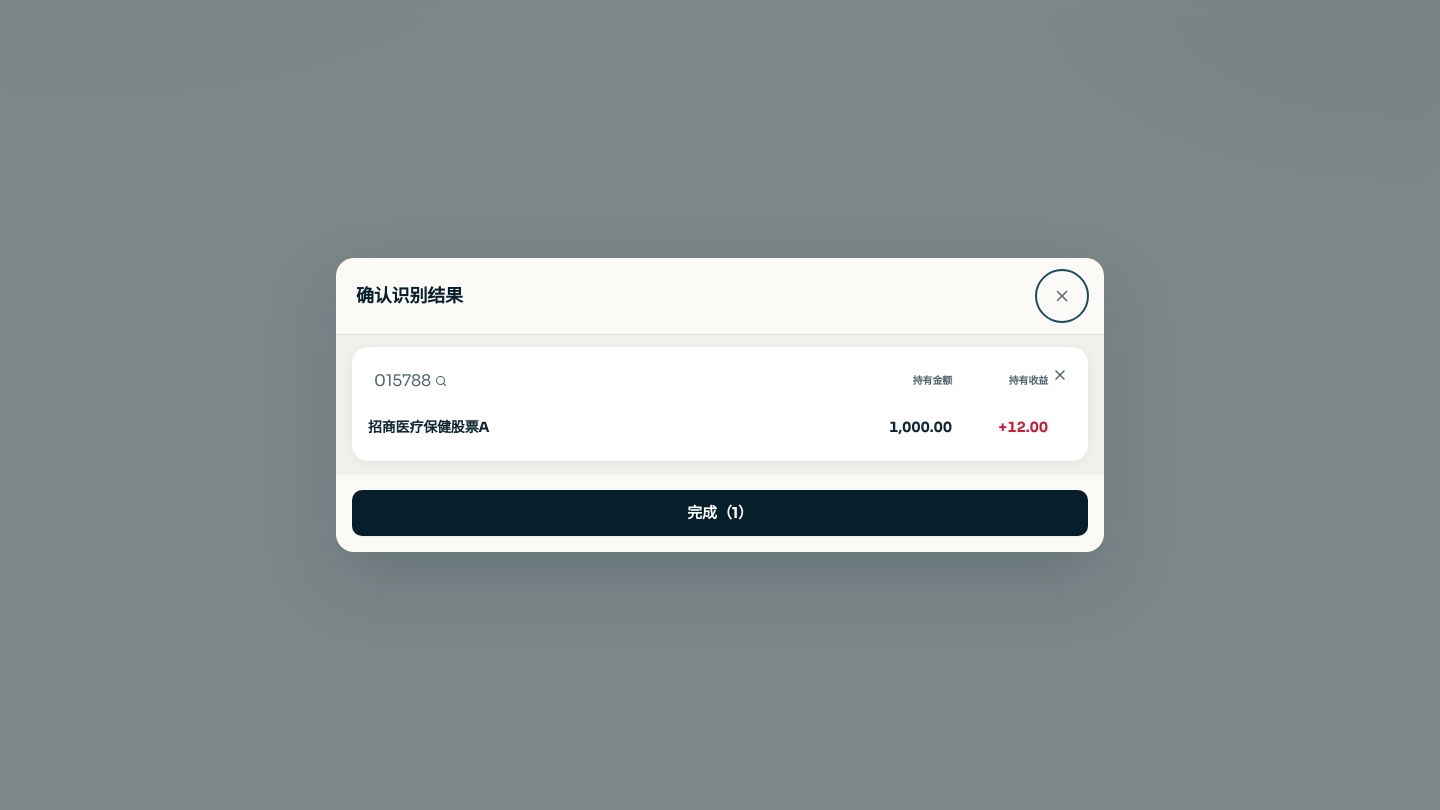
opens fund search from the fund code
Click the button named "基金代码：招商医疗保健股票A" at (402,380), box 368,359 -> 848,403
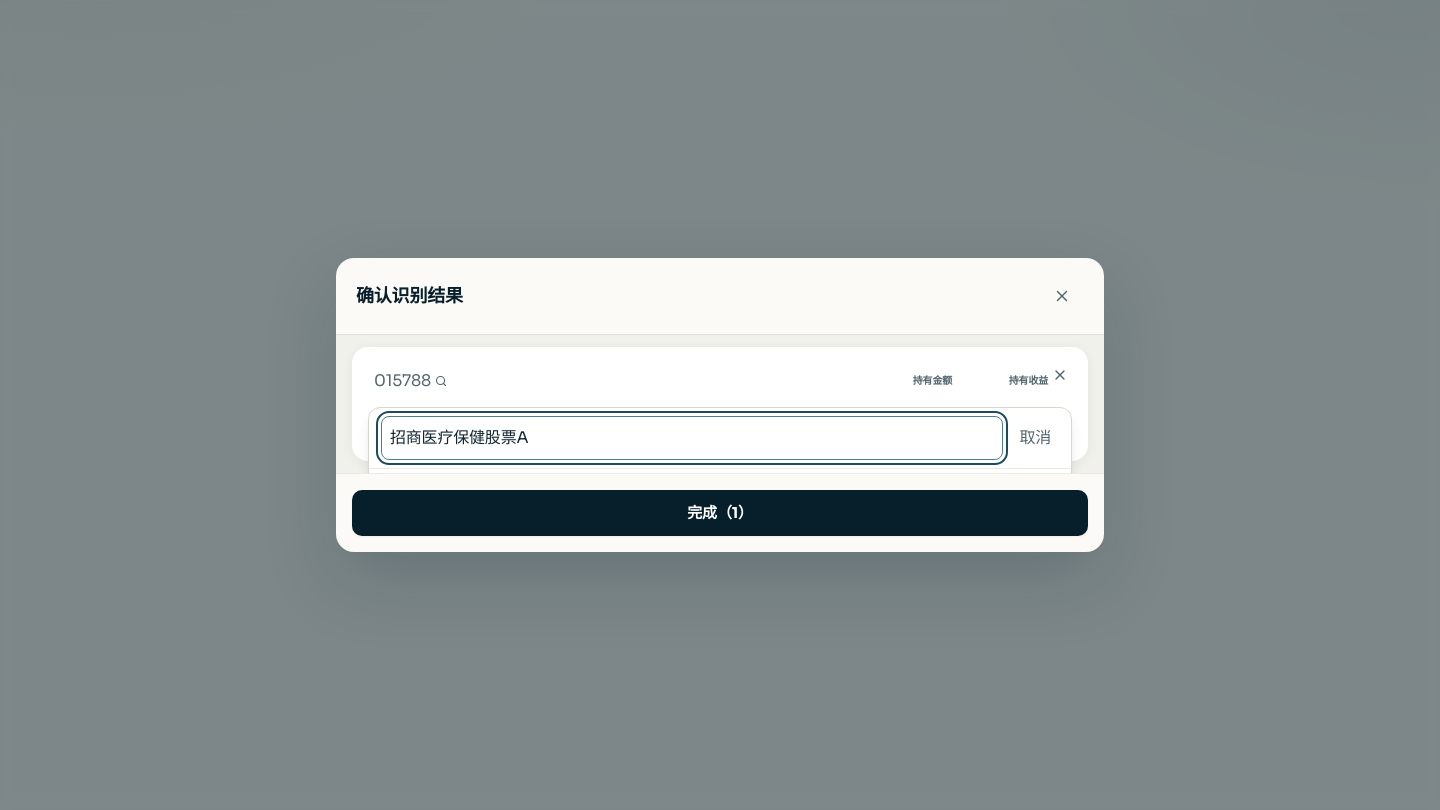
Expected: the field named "搜索基金" is shown, 381,416 -> 1003,460
Expected: the button with aria-label "取消基金搜索" is shown, 1011,416 -> 1059,460
